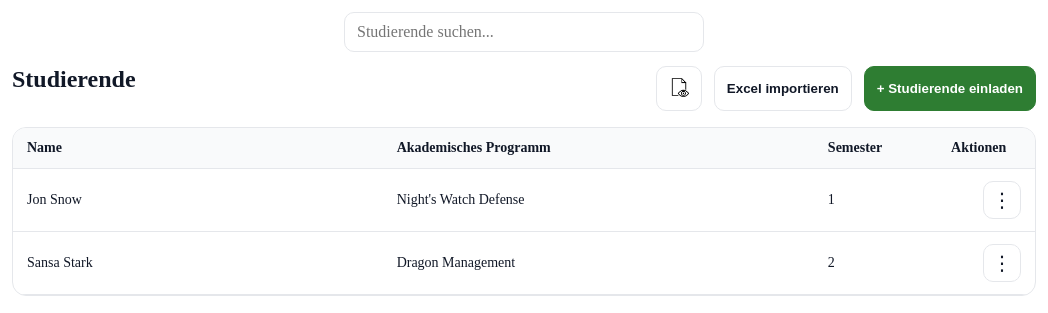
it: StudentsPage › should filter students by search input
Expected: the text "Jon Snow" is shown, [13,168,383,232]
In the field with placeholder "Studierende suchen...": point(524, 32) [344,12,704,52], type "Sansa"
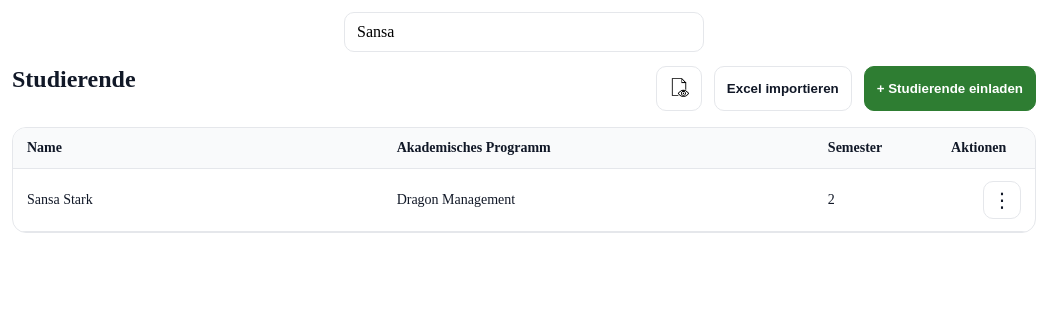
Expected: the text "Sansa Stark" is shown, [13,168,383,232]
Now the text "Jon Snow" is gone
